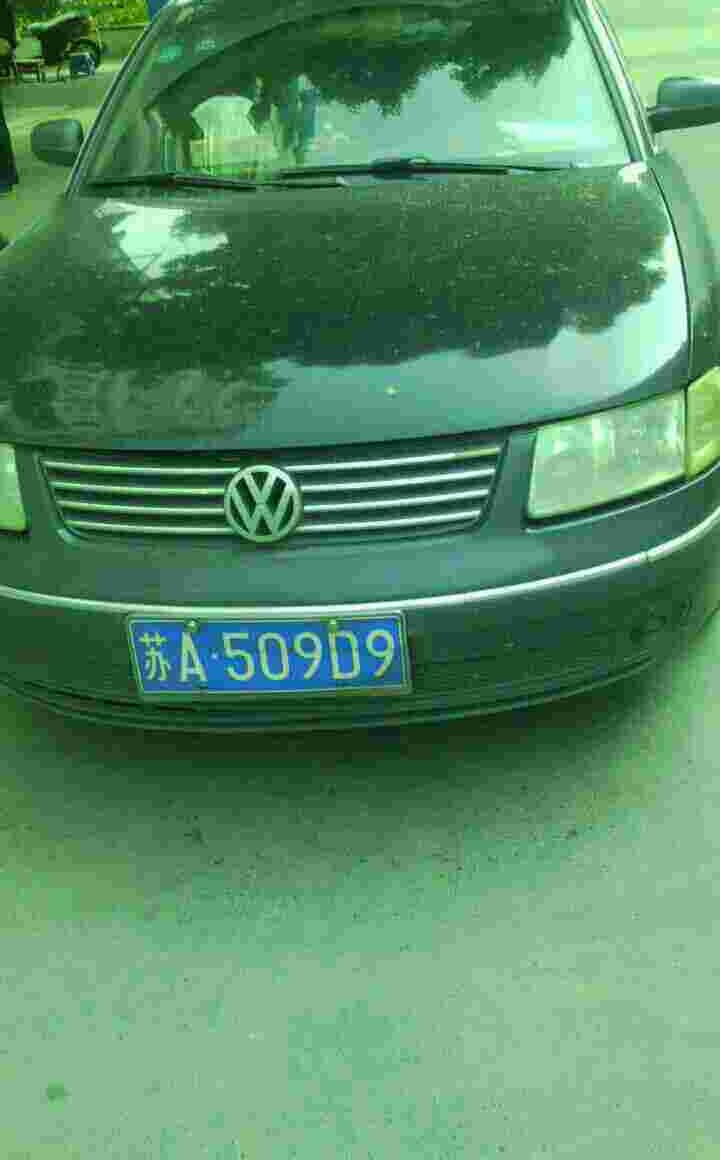license_plate: (137, 621, 412, 693)
